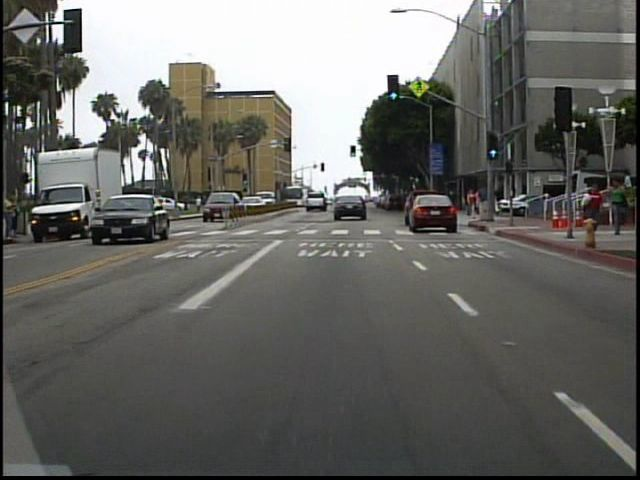person: (8, 193, 22, 239), (464, 187, 480, 221), (493, 183, 508, 217), (477, 183, 491, 219)
